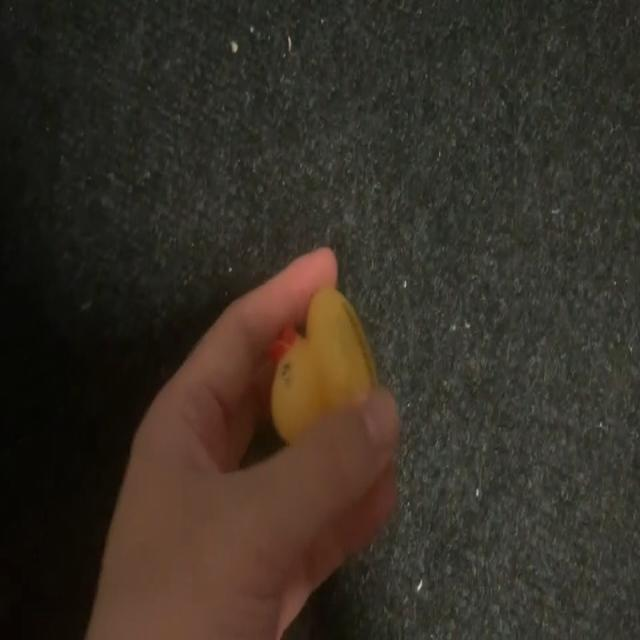rubber-duck: (271, 287, 375, 440)
